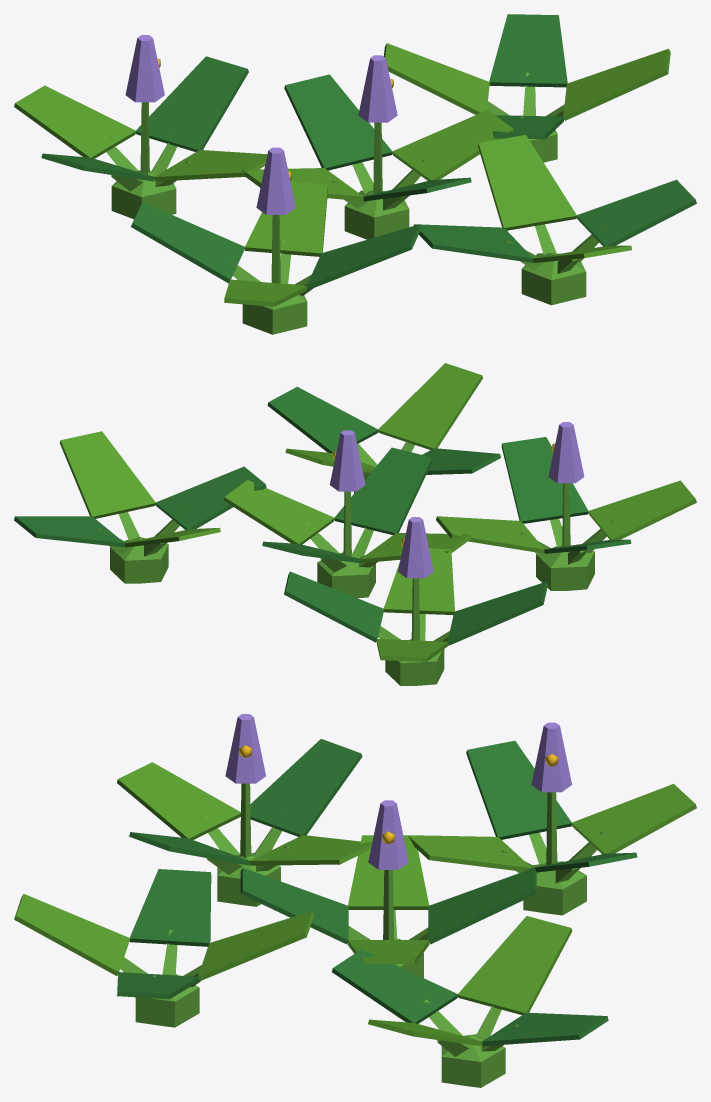
The model's file is eceng_gondok.glb.
3 views of the same model, one above another, from view 1: azimuth 30°, elevation 25°; view 2: azimuth 150°, elevation 25°; view 3: azimuth 270°, elevation 25° (orthographic). The views are drawn at different scales.
Parts seen in each view (by area): view 1: body; view 2: body; view 3: body.
Boxes of the visible parts, left/top/right/bottom form: body: left=14, top=14, right=696, bottom=334; body: left=14, top=363, right=696, bottom=685; body: left=14, top=714, right=696, bottom=1087.
Size of the model in its own units: 1.71 by 0.51 by 1.67.
Materials: 1 (1 with a texture image).
